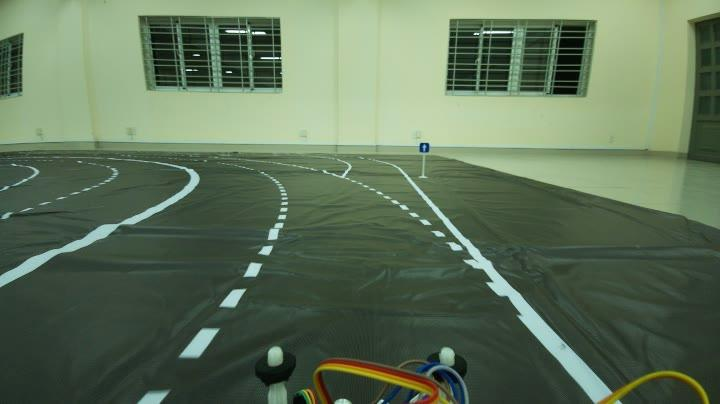onewayroad: (414, 138, 432, 155)
